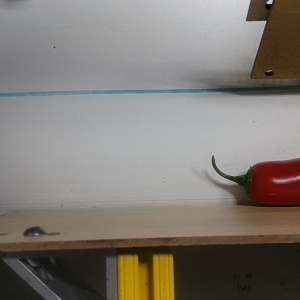Cut Point: (237, 161, 269, 206)
